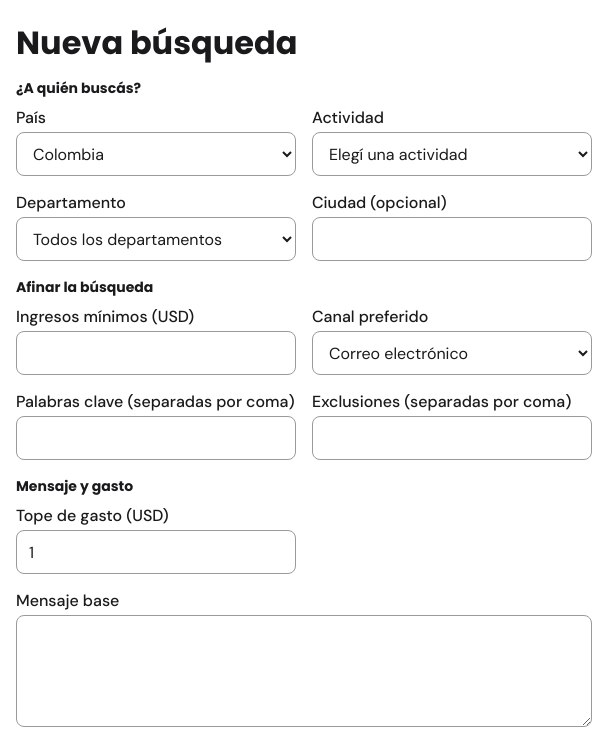
aclara_que_el_conteo_es_antes_de_palabras_clave
Select "Elaboración de productos de panadería" in the dropdown labelled "Actividad" at (452, 154), box [312, 132, 592, 176]
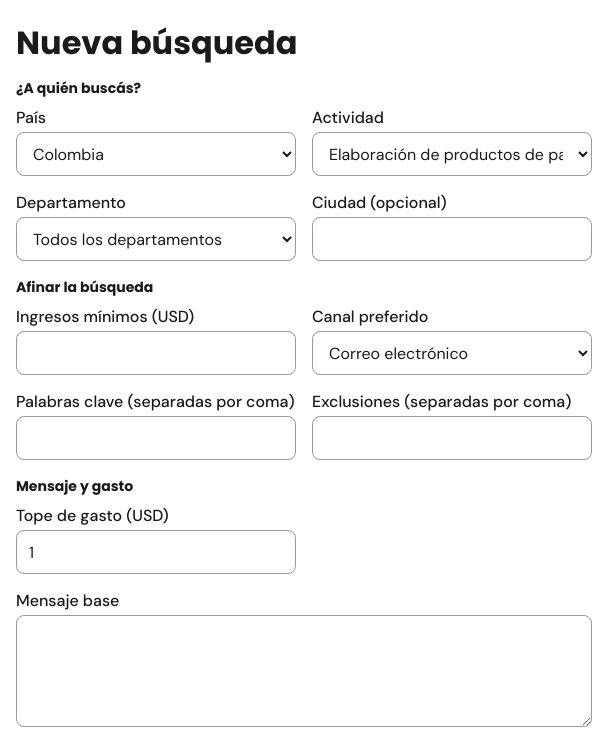
Type "pan, harina" into the field labelled "Palabras clave (separadas por coma)" at (156, 438), box [16, 416, 296, 460]
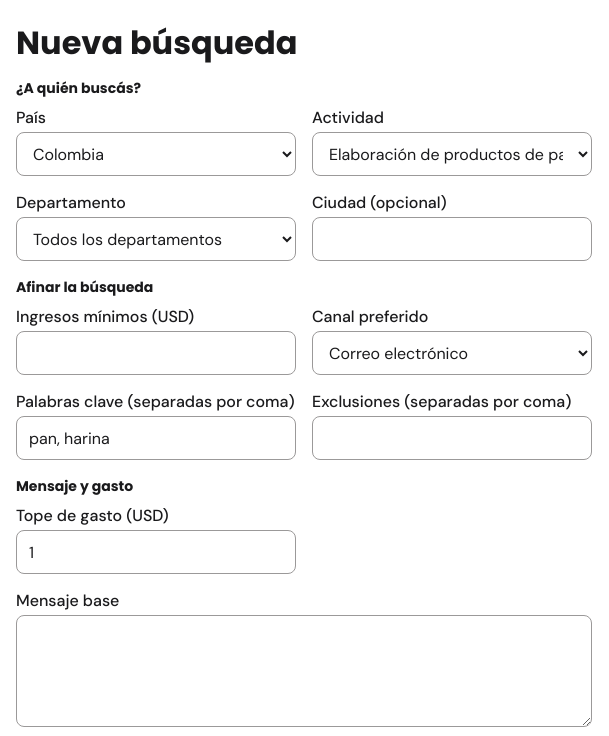
Replace the text in the number field labelled "Tope de gasto (USD)" with "5" at (156, 552), box [16, 530, 296, 574]
(page scrolled)
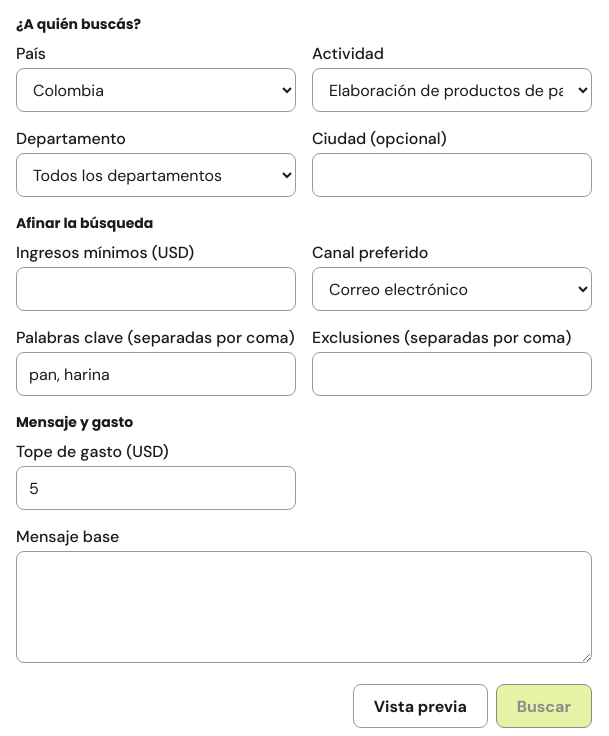
Click the button "Vista previa" at (420, 706), box [353, 684, 488, 728]
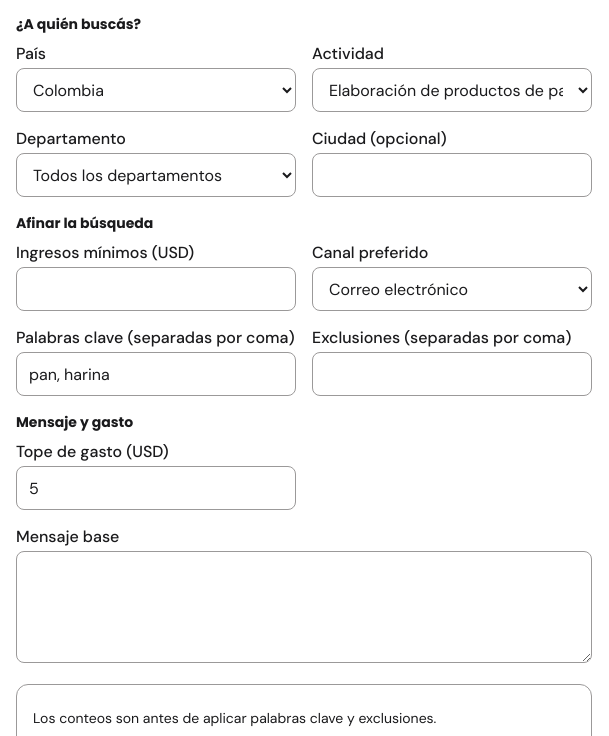
Check: the text "Los conteos son antes de aplicar palabras clave y exclusiones." is shown, box [33, 709, 436, 727]
